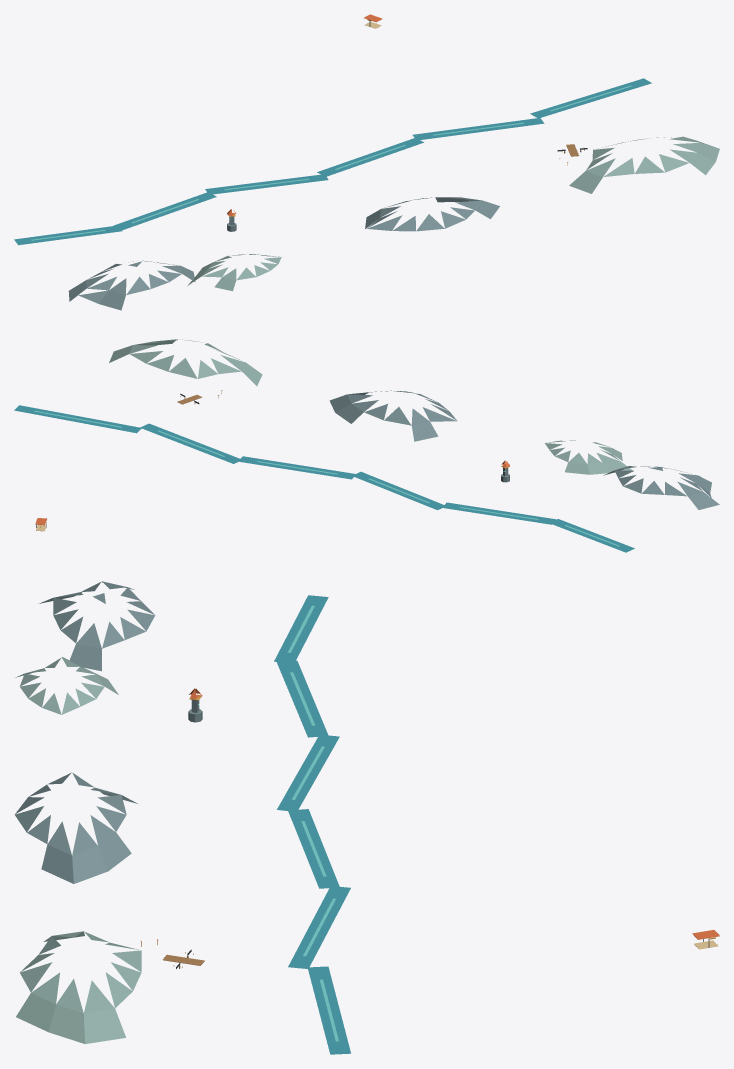
Rendered from OPEN-FIELD-SCENERY-01_LOD2.glb.
3 renders of one model, top to bottom at view 1: azimuth 30°, elevation 25°; view 2: azimuth 150°, elevation 25°; view 3: azimuth 270°, elevation 25°, orthographic. The views are drawn at different scales.
Parts seen in each view (by area): view 1: HILL01_mass_3, HILL01_mass_0, HILL01_mass_2, HILL01_mass_1, RIVER01_water_05, RIVER01_water_04, RIVER01_water_02, RIVER01_water_03, RIVER01_water_01, RIVER01_water_00; view 2: HILL01_mass_2, HILL01_mass_3, HILL01_mass_0, HILL01_mass_1, RIVER01_water_05, RIVER01_water_04, RIVER01_water_03, RIVER01_water_01, RIVER01_water_02, RIVER01_water_00; view 3: HILL01_mass_3, HILL01_mass_2, HILL01_mass_0, HILL01_mass_1, RIVER01_water_05, RIVER01_water_04, RIVER01_water_03, RIVER01_water_01, RIVER01_water_02, RIVER01_water_00.
Boxes of the visible parts, x1,y1,x2,y2 form: HILL01_mass_3: (569, 136, 719, 193); HILL01_mass_0: (68, 260, 195, 310); HILL01_mass_2: (365, 197, 499, 231); HILL01_mass_1: (187, 254, 281, 291); RIVER01_water_05: (530, 78, 651, 118); RIVER01_water_04: (412, 118, 544, 139); RIVER01_water_02: (205, 174, 328, 194); RIVER01_water_03: (317, 138, 423, 176); RIVER01_water_01: (113, 192, 216, 230); RIVER01_water_00: (14, 225, 122, 245); HILL01_mass_2: (329, 390, 457, 441); HILL01_mass_3: (109, 339, 262, 385); HILL01_mass_0: (603, 466, 719, 509); HILL01_mass_1: (545, 440, 632, 474); RIVER01_water_05: (14, 405, 141, 433); RIVER01_water_04: (140, 423, 240, 463); RIVER01_water_03: (238, 456, 356, 479); RIVER01_water_01: (442, 502, 556, 524); RIVER01_water_02: (352, 471, 446, 510); RIVER01_water_00: (549, 519, 634, 552); HILL01_mass_3: (16, 931, 141, 1044); HILL01_mass_2: (14, 772, 137, 883); HILL01_mass_0: (38, 581, 155, 671); HILL01_mass_1: (15, 657, 118, 714); RIVER01_water_05: (307, 966, 350, 1054); RIVER01_water_04: (288, 886, 350, 968); RIVER01_water_03: (288, 809, 339, 888); RIVER01_water_01: (277, 660, 328, 737); RIVER01_water_02: (277, 735, 339, 810); RIVER01_water_00: (274, 595, 328, 663).
Bounding box in the file's own units: 797 × 26.92 × 503.
